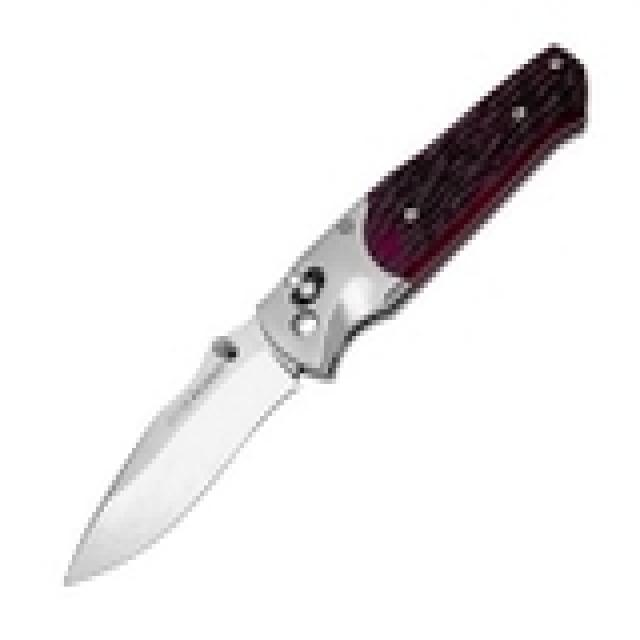Knife: (54, 29, 596, 603)
